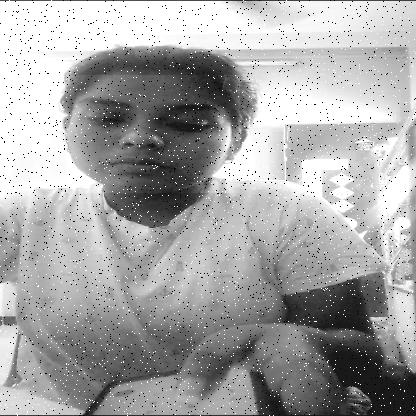Normal: (66, 75, 240, 193)
